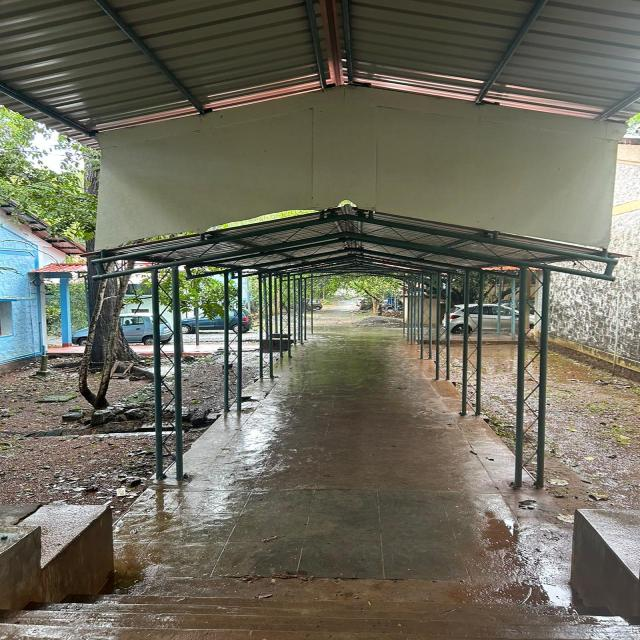pillar ahead at: (503, 261, 565, 498), (138, 264, 188, 503), (214, 269, 260, 419), (448, 264, 487, 425)
